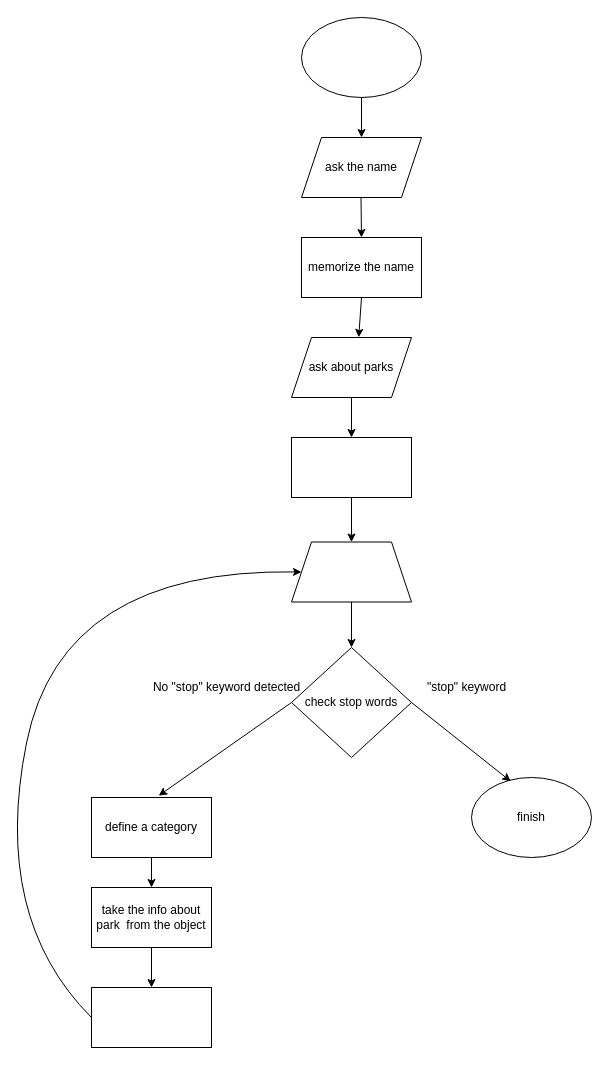
Some shapes in this 610 by 1065 pixel diagram are drawn without their labels. Here are the shapes that lost their labels. From the top down, the centre of each, then its label:
(361,57): Start
(351,467): define a park
(351,571): wait for a question
(151,1017): generate the output
